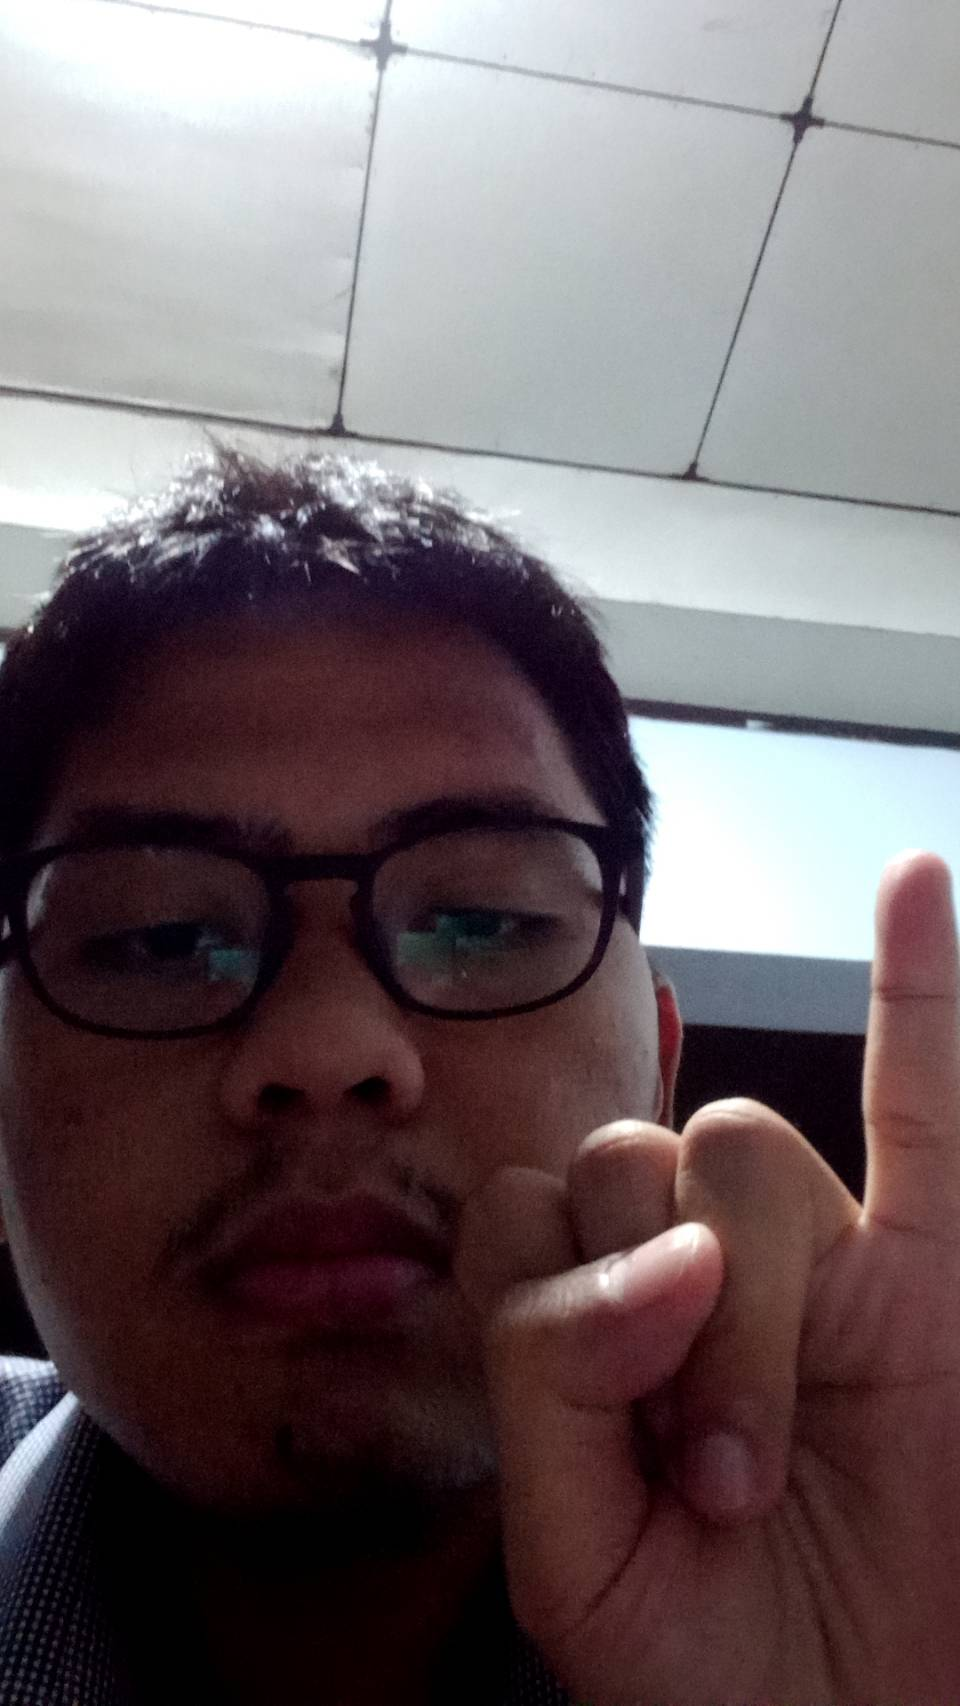I: (452, 832, 960, 1706)
